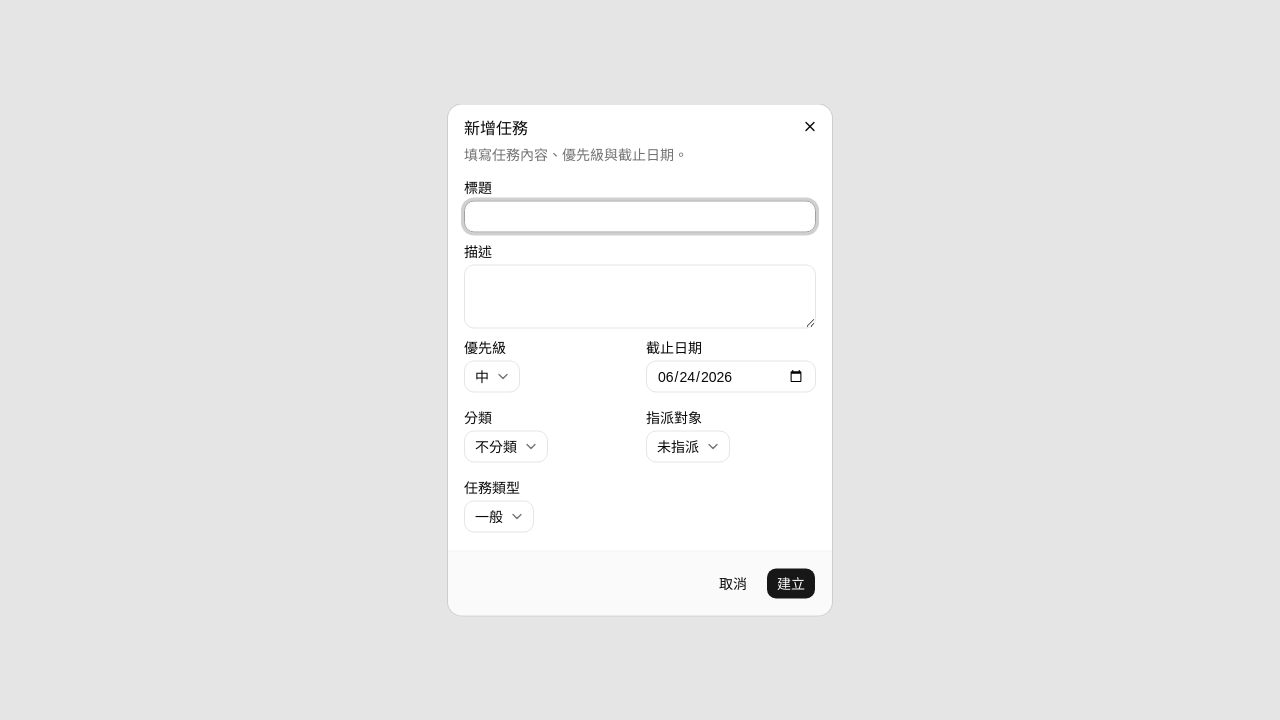
Test case: TaskFormDialog › shows validation error when title is empty
Click the button "建立": (791, 584) left=766, top=568, right=816, bottom=600
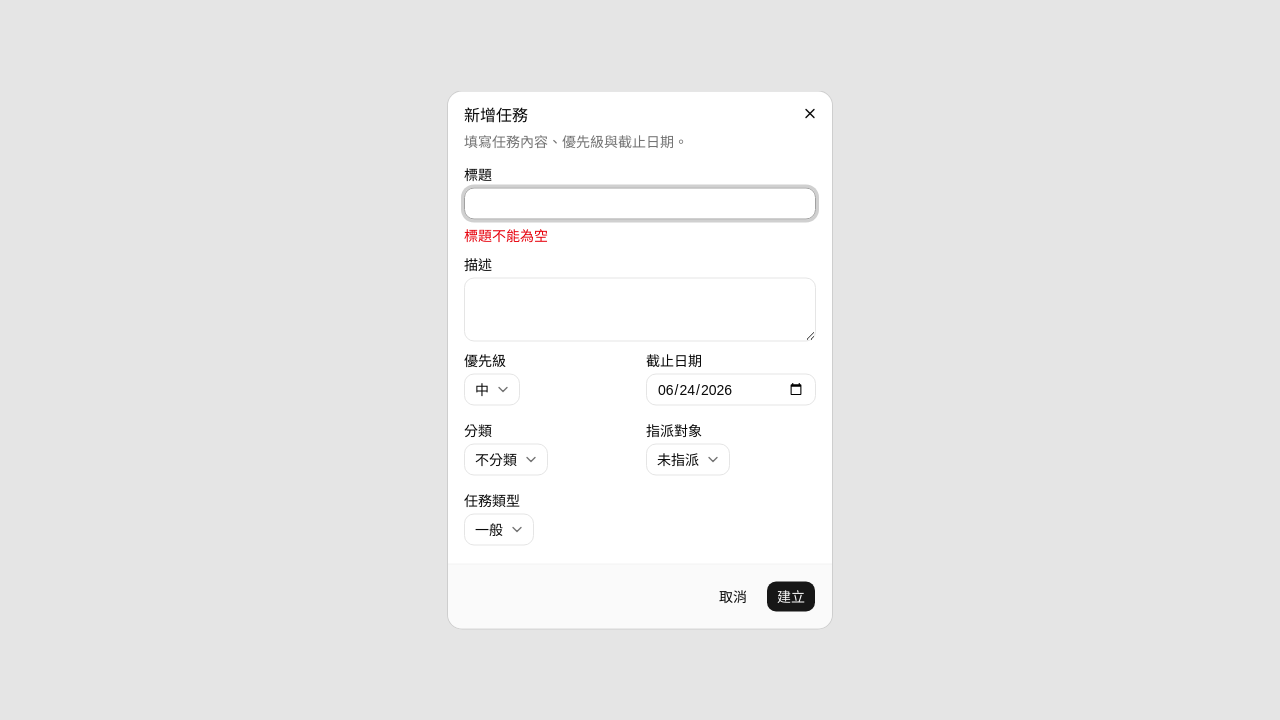
Expected: the text "標題不能為空" is shown, left=464, top=228, right=548, bottom=244
